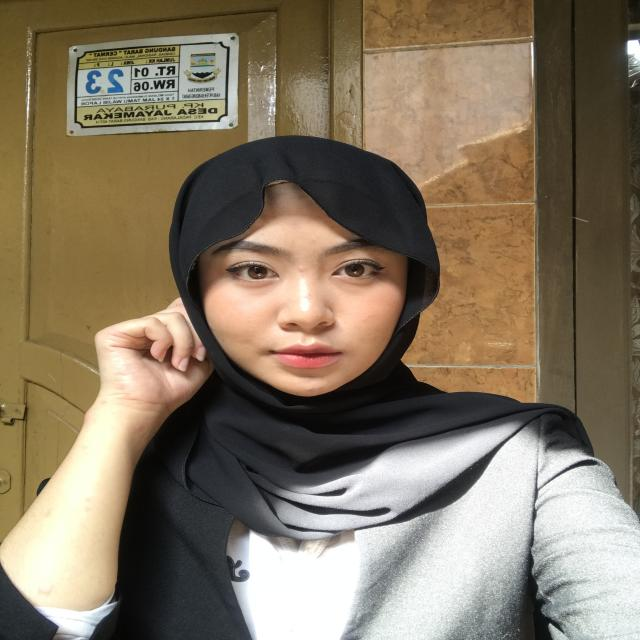ibu: (84, 285, 226, 420)
